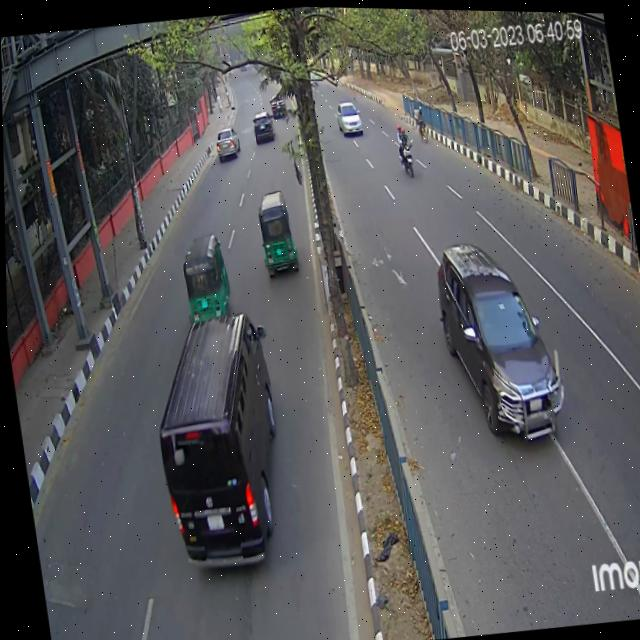cng: (175, 228, 234, 334), (253, 183, 299, 285)
